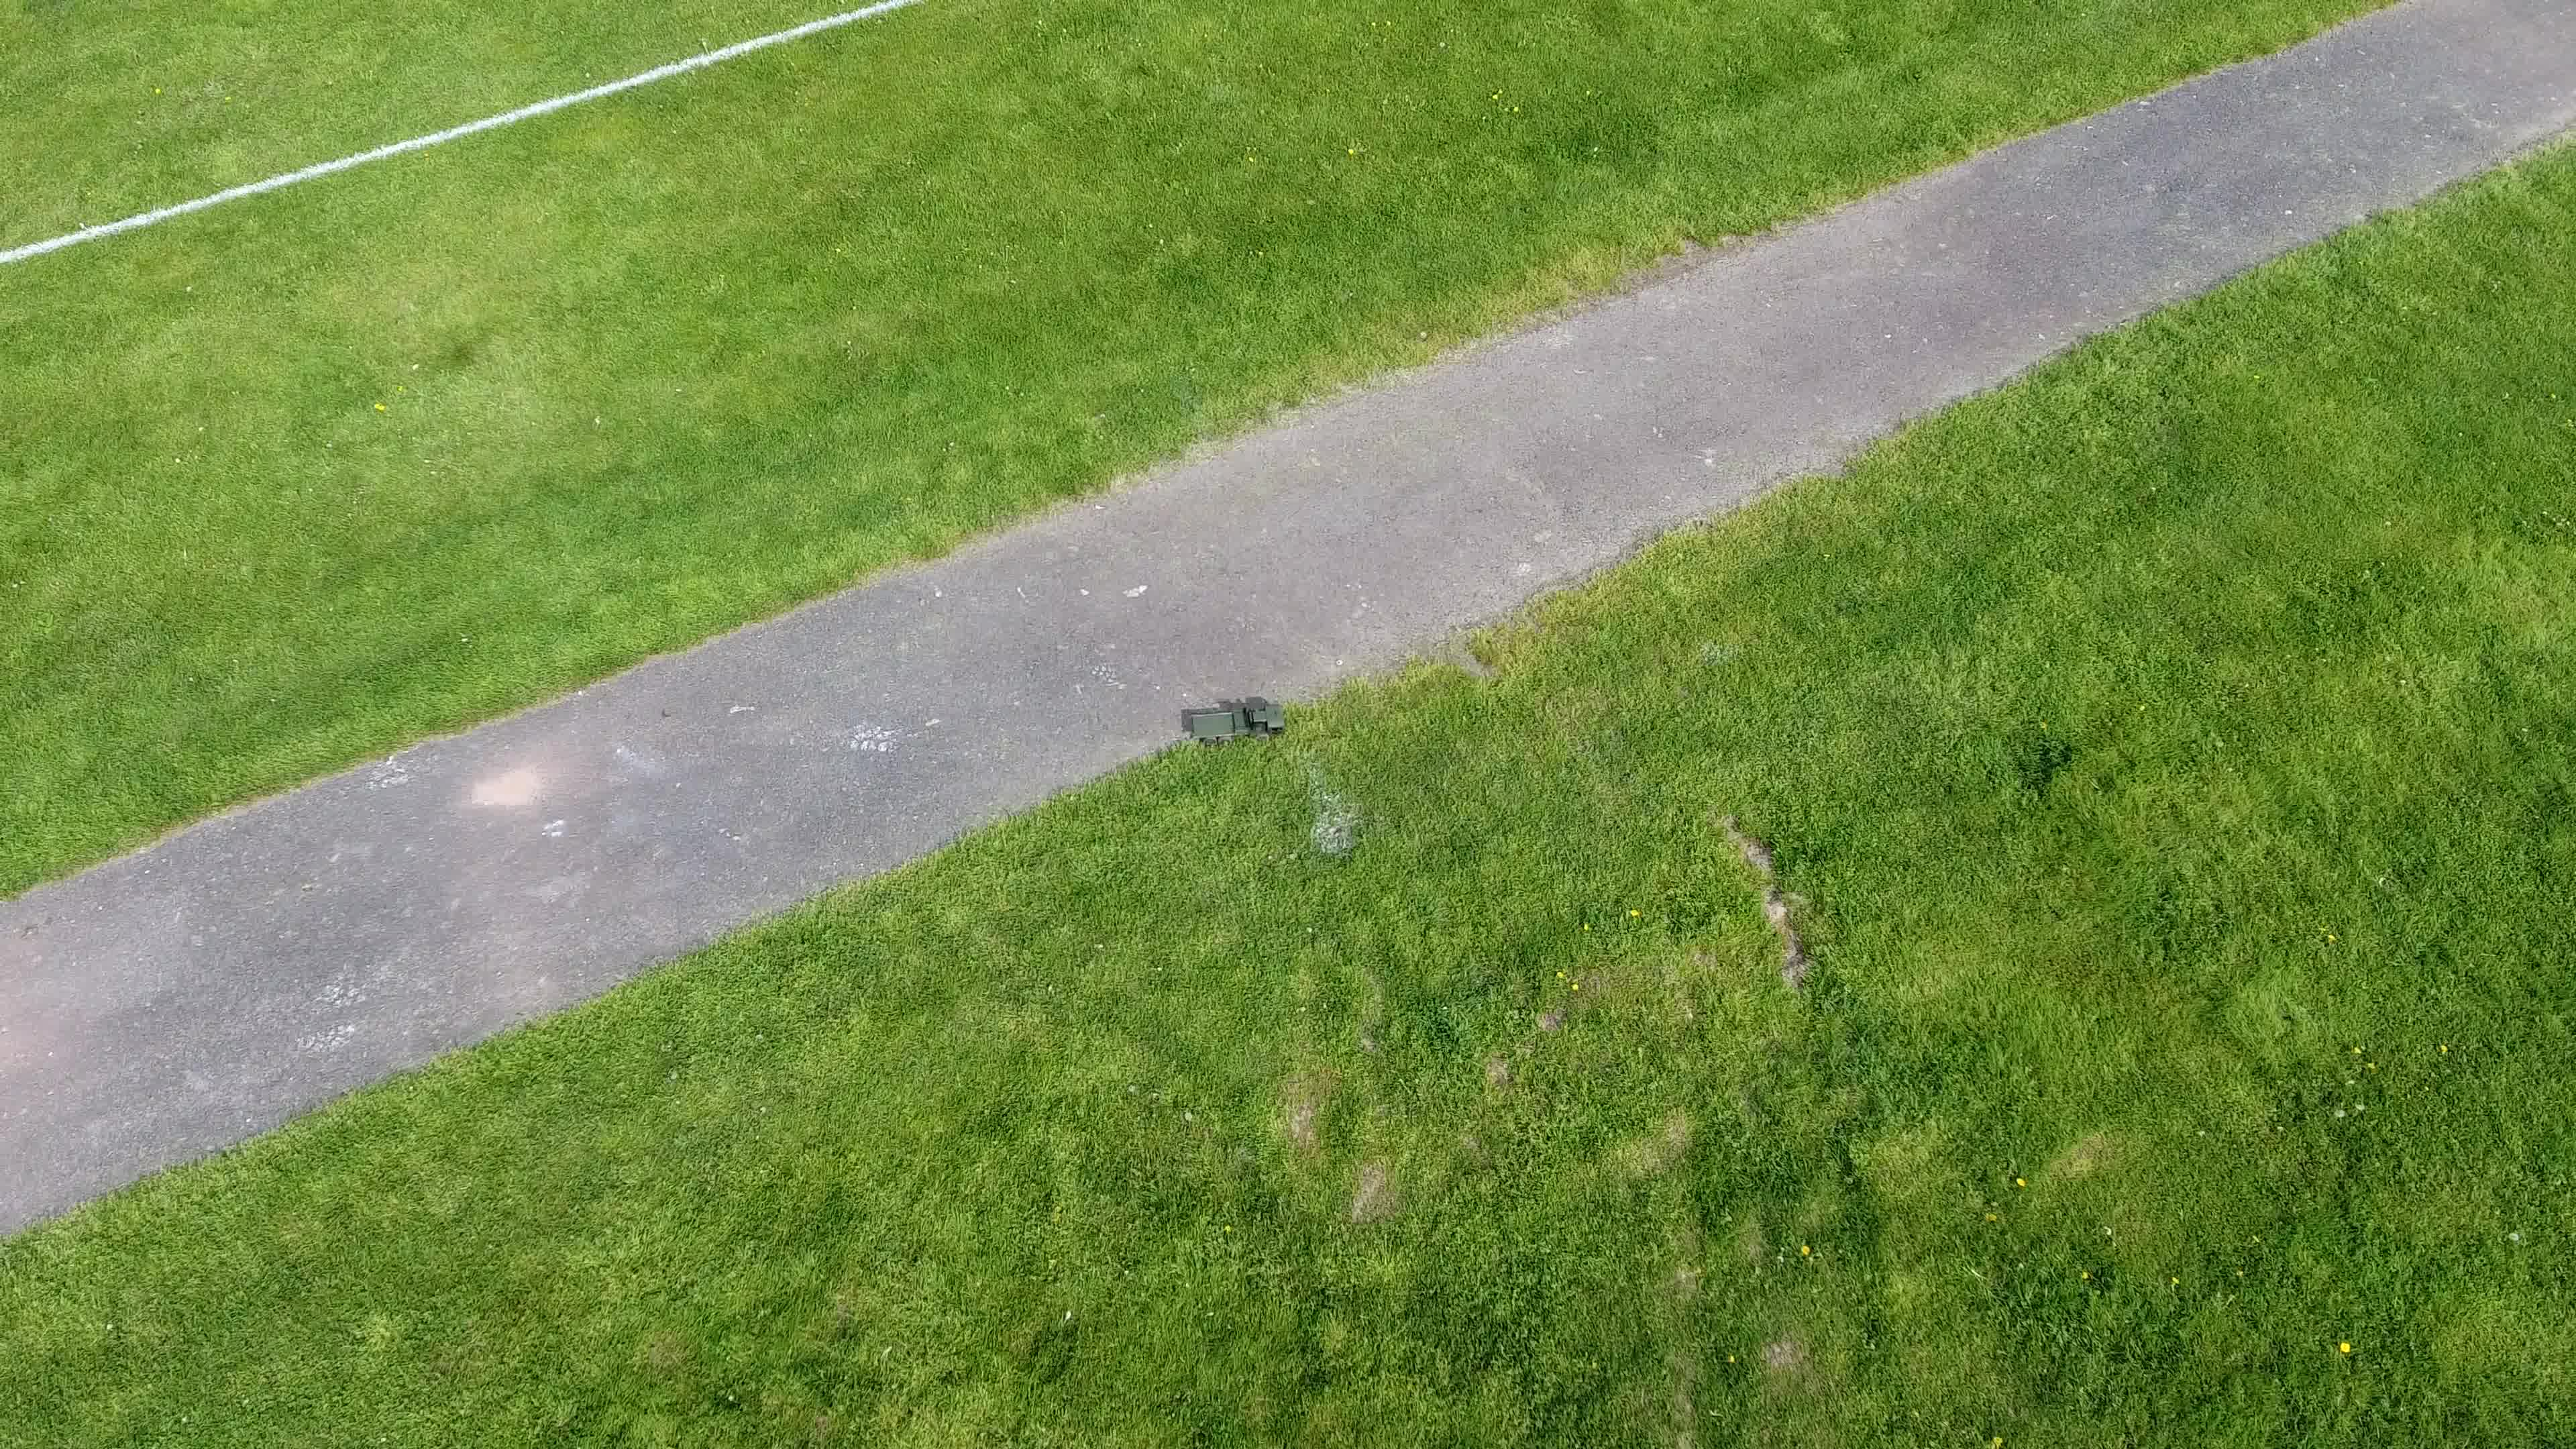transporter9: (1184, 699, 1288, 747)
